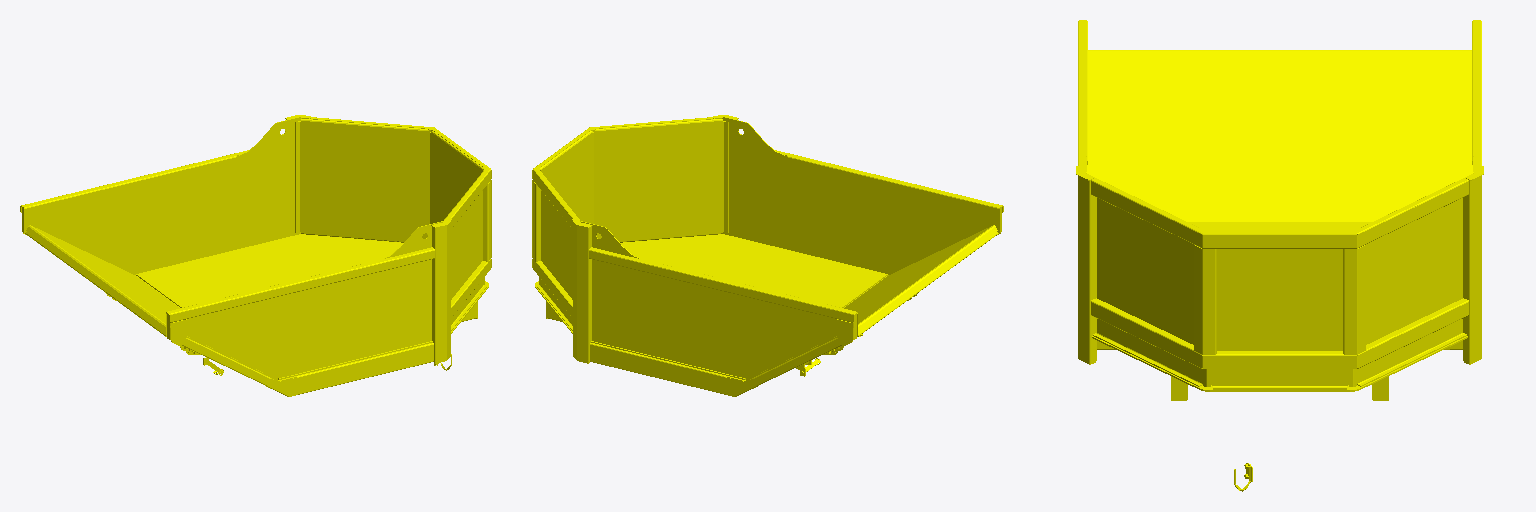
robot.urdf — c30-r:
<?xml version="1.0" encoding="utf-8"?>
<!-- =================================================================================== -->
<!-- |    This document was autogenerated by xacro from c30-r.xacro                    | -->
<!-- |    EDITING THIS FILE BY HAND IS NOT RECOMMENDED                                 | -->
<!-- =================================================================================== -->
<robot name="c30-r">
  <material name="grey">
    <color rgba="0.4 0.4 0.4 1.0"/>
  </material>
  <material name="yellow">
    <color rgba="1.0 1.0 0.0 1.0"/>
  </material>
  <link name="base_link"/>
  <link name="body_link">
    <visual>
      <origin rpy="1.57079632679 0 3.14159265359" xyz="0 0 0.0"/>
      <geometry>
        <mesh filename="package://c30-r_description/meshes/carrier.stl" scale="0.001 0.001 0.001"/>
      </geometry>
      <material name="grey"/>
    </visual>
    <collision>
      <origin rpy="1.57079632679 0 3.14159265359" xyz="0 0 0.0"/>
      <geometry>
        <mesh filename="package://c30-r_description/meshes/carrier.stl" scale="0.001 0.001 0.001"/>
      </geometry>
    </collision>
    <inertial>
      <mass value="2429"/>
      <!--mass value is listed in maintenance manual -->
      <origin rpy="0 0 0" xyz="-0.389 -0.01 0.438"/>
      <inertia ixx="893.2" ixy="264.1" ixz="-22.5" iyy="1904.5" iyz="-5.5" izz="1743.4"/>
    </inertial>
  </link>
  <link name="body_hinge_link">
    <inertial>
      <mass value="0.001"/>
      <origin rpy="0 0 0" xyz="0 0 0"/>
      <inertia ixx="0.001" ixy="0" ixz="0" iyy="0.001" iyz="0" izz="0.001"/>
    </inertial>
  </link>
  <link name="bed_link">
    <visual>
      <origin rpy="1.57079632679 0 3.14159265359" xyz="0 0 0.0"/>
      <geometry>
        <mesh filename="package://c30-r_description/meshes/bed.stl" scale="0.001 0.001 0.001"/>
      </geometry>
      <material name="yellow"/>
    </visual>
    <collision>
      <origin rpy="1.57079632679 0 3.14159265359" xyz="0 0 0.0"/>
      <geometry>
        <mesh filename="package://c30-r_description/meshes/bed.stl" scale="0.001 0.001 0.001"/>
      </geometry>
    </collision>
    <inertial>
      <mass value="346"/>
      <!--mass value is listed in maintenance manual -->
      <origin rpy="0 0 0" xyz="-1.5 0.0 0.892"/>
      <inertia ixx="92.3" ixy="-4.0" ixz="-0.1" iyy="206.5" iyz="-0.04" izz="140.5"/>
    </inertial>
  </link>
  <link name="bed_hinge_link">
    <inertial>
      <mass value="0.001"/>
      <origin rpy="0 0 0" xyz="0 0 0"/>
      <inertia ixx="0.001" ixy="0" ixz="0" iyy="0.001" iyz="0" izz="0.001"/>
    </inertial>
  </link>
  <joint name="base_to_body" type="fixed">
    <origin rpy="0 0 0" xyz="0 0 0"/>
    <parent link="base_link"/>
    <child link="body_link"/>
  </joint>
  <joint name="body_to_body_hinge" type="fixed">
    <origin rpy="0 0 1.57079632679" xyz="-2.25 0 0.85"/>
    <parent link="body_link"/>
    <child link="body_hinge_link"/>
  </joint>
  <joint name="body_hinge_to_bed_hinge" type="revolute">
    <origin rpy="0 0 0" xyz="0 0 0"/>
    <parent link="body_hinge_link"/>
    <child link="bed_hinge_link"/>
    <limit effort="1" lower="-1.57079632679" upper="0.0" velocity="1"/>
  </joint>
  <joint name="bed_to_bed_hinge" type="fixed">
    <origin rpy="0 0 -1.57079632679" xyz="0 -2.25 -0.85"/>
    <parent link="bed_hinge_link"/>
    <child link="bed_link"/>
  </joint>
</robot>

--- Facts derived from the render (not from the file) ---
The picture shows the robot from 3 angles, left to right: view 1: azimuth 30°, elevation 25°; view 2: azimuth 150°, elevation 25°; view 3: azimuth 270°, elevation 25°; orthographic projection.
Robot: c30-r — 5 links, 4 joints (1 revolute, 3 fixed); root link base_link; default pose: all joints at 0.
Visible links, largest first — view 1: bed_link; view 2: bed_link; view 3: bed_link.
Link boxes in pixels (x1,y1,x2,y2): bed_link: [20, 115, 491, 396]; bed_link: [532, 115, 1003, 396]; bed_link: [1076, 20, 1483, 491].
Size in the robot's own frame: 2.08 by 1.47 by 1.11 metres.
Meshes: 2 distinct files referenced, 1 mesh visuals loaded (1 binary STL); not drawn: 1 (reference not matched to a file when rendering).